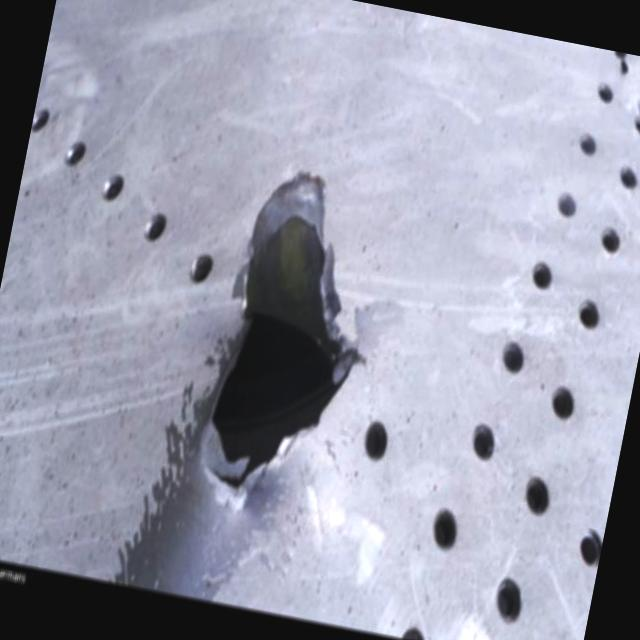crack: (184, 158, 406, 509)
